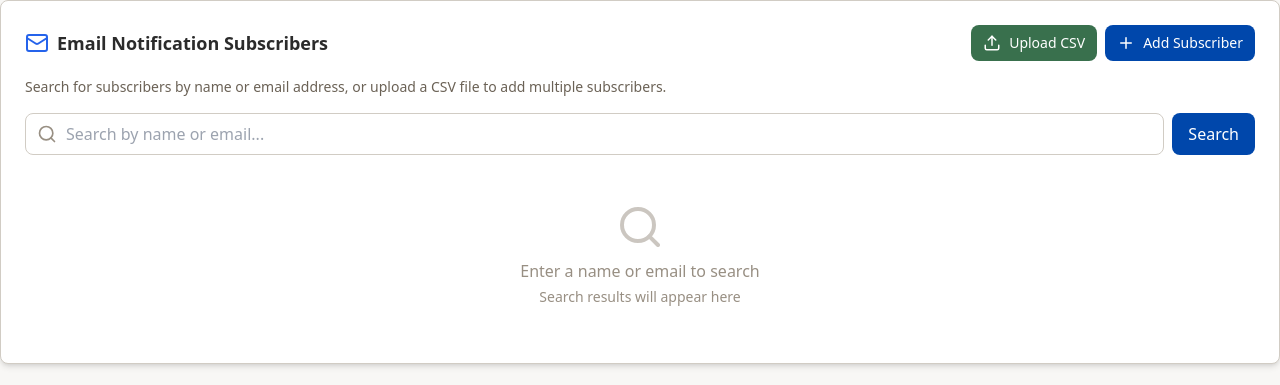
it: EmailSubscribers Component › Search Functionality › displays "no subscribers found" message when search returns empty
Type "NonexistentUser" into the field with placeholder "Search by name or email..." at [595, 134], box [25,113,1164,155]
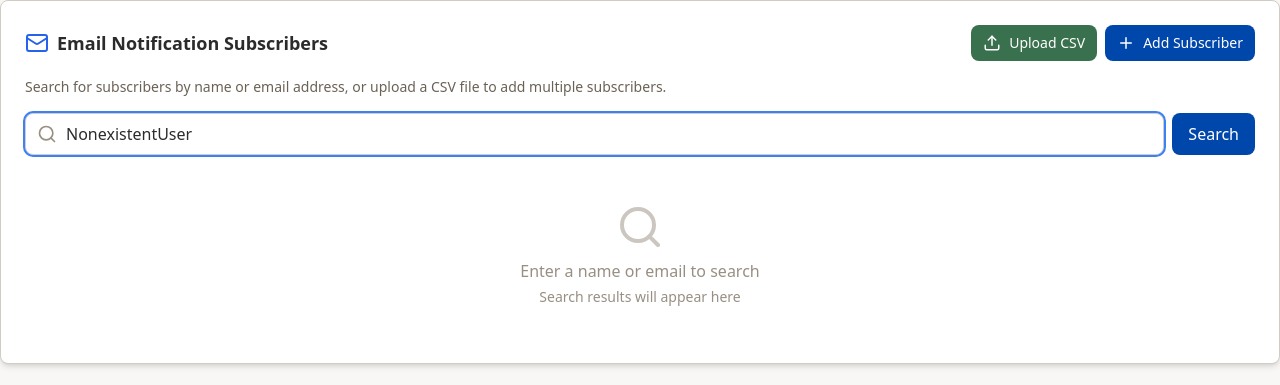
Click the button "Search" at [1214, 134], box [1172,113,1255,155]
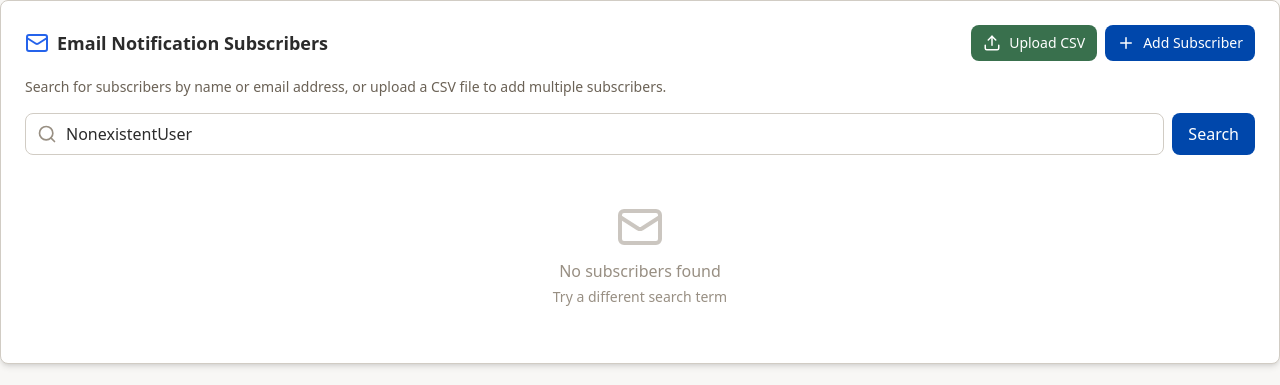
Expected: the text "No subscribers found" is shown, [559,260,721,282]
